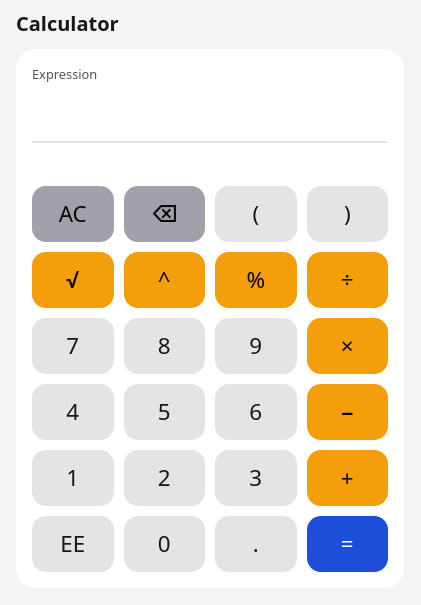
it: keyboard › ignores characters that are not calculator characters
The image size is (421, 605).
Expected: the button named "equals" is shown, [306,516,388,572]
Type "2a+b3!" into the field labelled "Expression" at (210, 115), box [32,87,388,143]
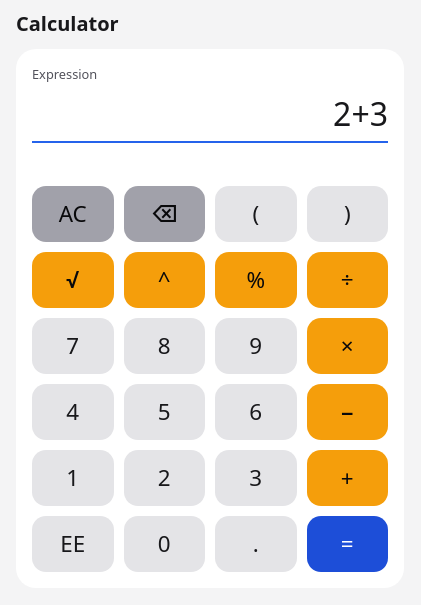
Expected: the field labelled "Expression" holds "2+3", [32,87,388,143]
